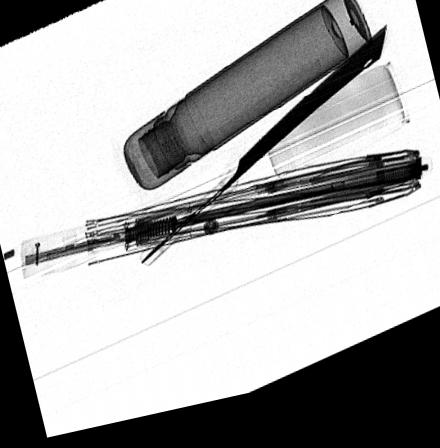Knife: (138, 39, 387, 273)
